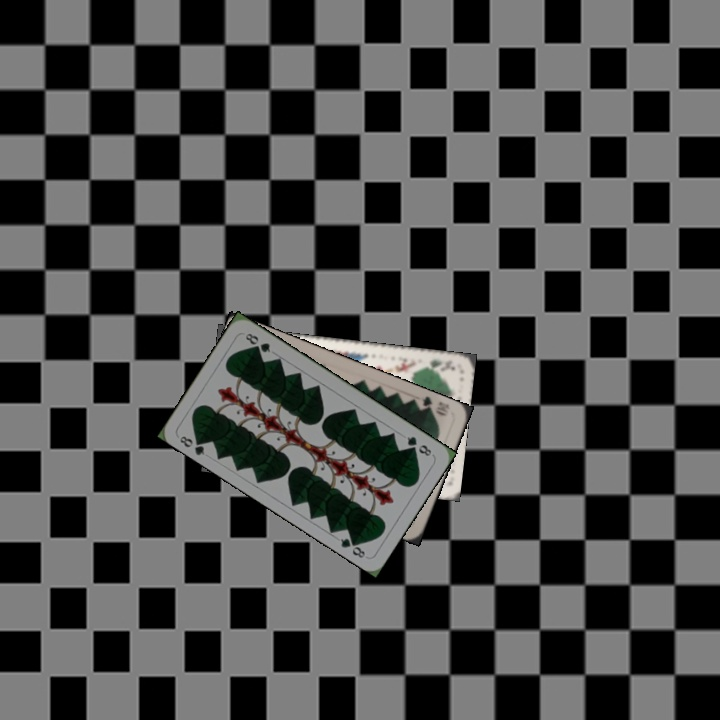G10: (417, 392, 452, 419)
G8: (175, 432, 208, 458), (403, 432, 434, 459)
GK: (418, 355, 458, 373)
